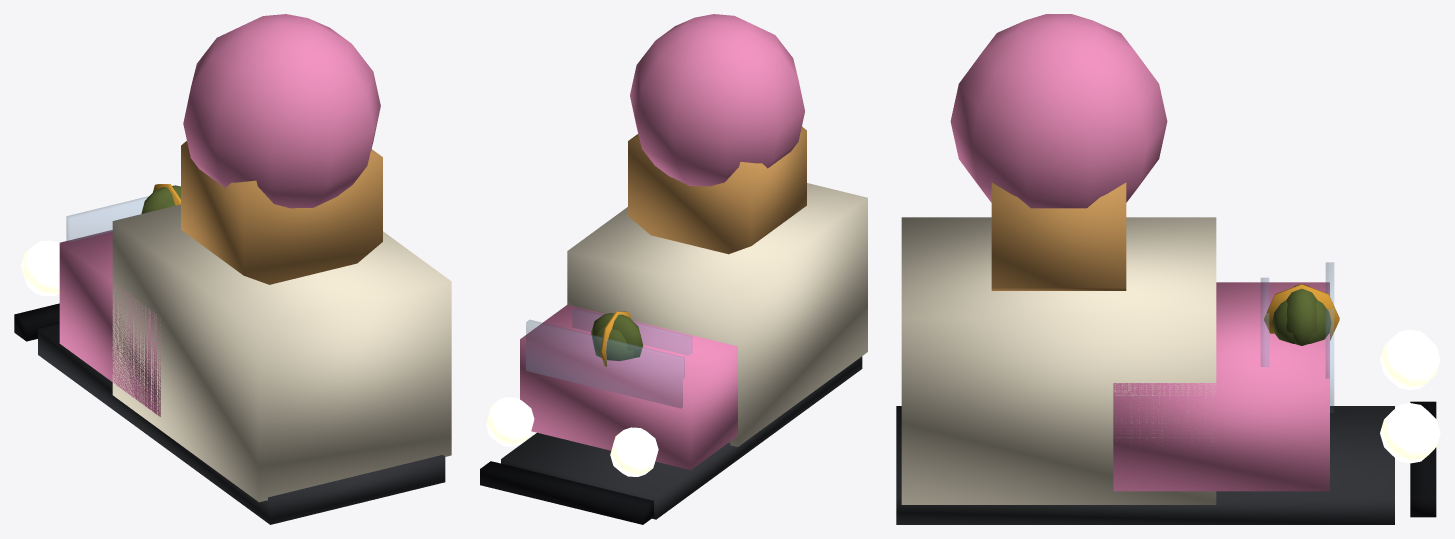
The model's file is helado_raw.glb.
The picture shows the model from 3 angles, left to right: view 1: azimuth 30°, elevation 25°; view 2: azimuth 150°, elevation 25°; view 3: azimuth 270°, elevation 25°; orthographic projection. The views are drawn at different scales.
Visible parts, largest first — view 1: Helado; view 2: Helado; view 3: Helado.
Part boxes in pixels (<box>): Helado: <box>14,14,451,524</box>; Helado: <box>480,14,867,524</box>; Helado: <box>896,14,1440,524</box>.
Bounding box in the file's own units: 1.1 × 2.32 × 2.51.
